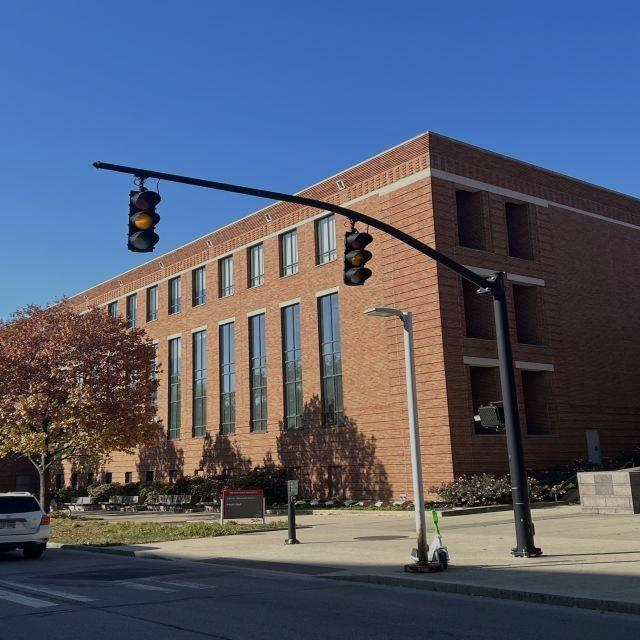Yellow: (123, 177, 165, 257), (340, 228, 377, 292)
